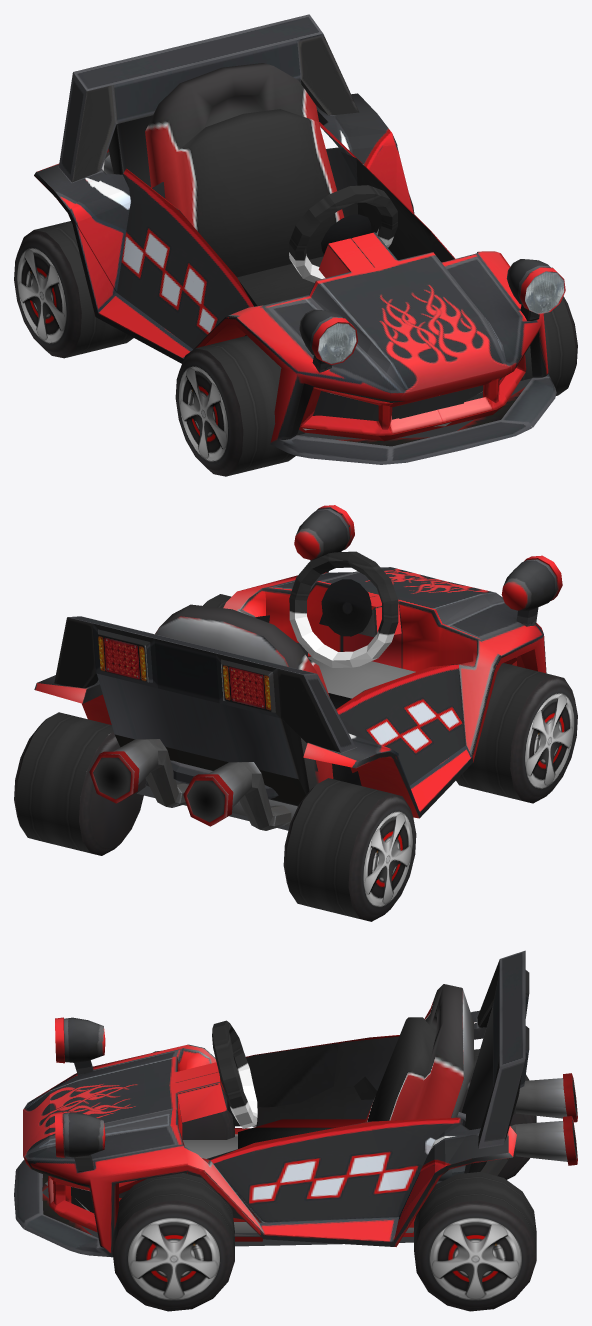
Rendered from car Sample.fbx.
The picture shows the model from 3 angles, top to bottom: view 1: azimuth 30°, elevation 25°; view 2: azimuth 150°, elevation 25°; view 3: azimuth 270°, elevation 25°; orthographic projection. The views are drawn at different scales.
Parts seen in each view (by area): view 1: kartModel_5, tireTest_010, tireTest_009, car 1, tireTest_012; view 2: kartModel_5, tireTest_009, tireTest_011, tireTest_010, car 1; view 3: kartModel_5, tireTest_011, tireTest_012, car 1, tireTest_010, tireTest_009.
Part boxes in pixels (x1,y1,x2,y2): kartModel_5: (34, 14, 565, 464); tireTest_010: (175, 335, 304, 476); tireTest_009: (14, 221, 133, 358); car 1: (289, 185, 397, 282); tireTest_012: (520, 296, 577, 395); kartModel_5: (34, 505, 562, 830); tireTest_009: (283, 778, 416, 921); tireTest_011: (14, 712, 145, 855); tireTest_010: (456, 663, 577, 803); car 1: (289, 551, 398, 667); kartModel_5: (14, 950, 577, 1257); tireTest_011: (414, 1171, 536, 1311); tireTest_012: (112, 1173, 234, 1311); car 1: (212, 1020, 257, 1128); tireTest_010: (153, 1051, 234, 1139); tireTest_009: (459, 1049, 536, 1179).
Bounding box in the file's own units: 168 × 118 × 254.
